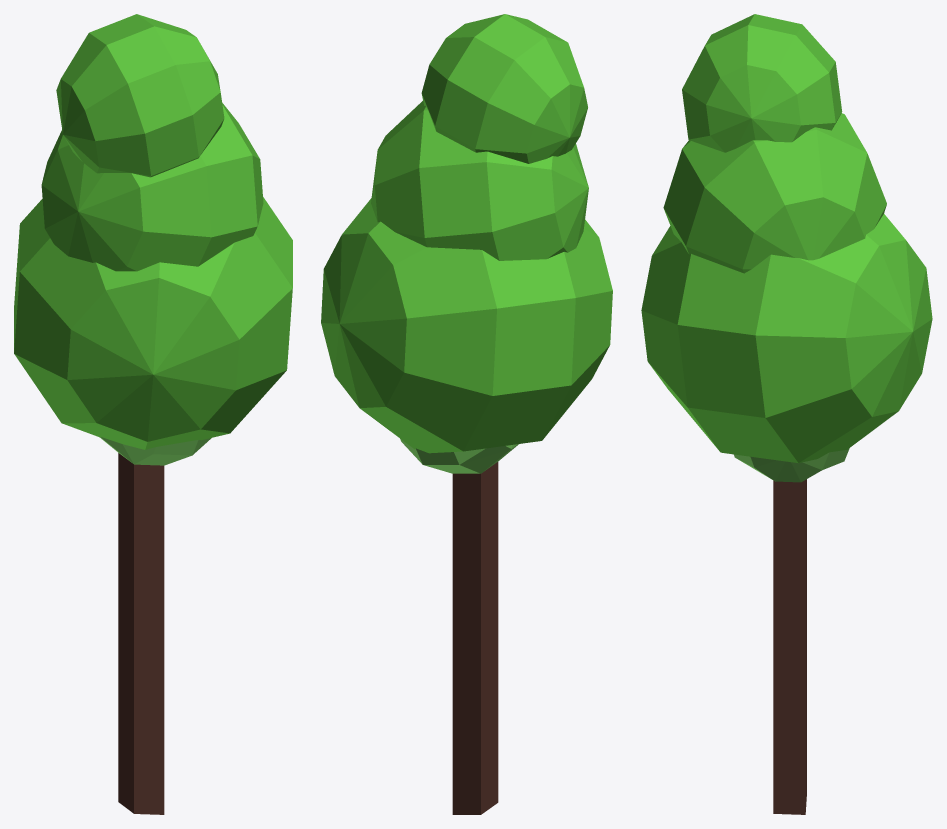
File: tree_2_world_ap_0_lev1.glb
3 renders of one model, left to right at view 1: azimuth 30°, elevation 25°; view 2: azimuth 150°, elevation 25°; view 3: azimuth 270°, elevation 25°, orthographic. The views are drawn at different scales.
Visible parts, largest first — view 1: tree_2_world_ap_0_lev1; view 2: tree_2_world_ap_0_lev1; view 3: tree_2_world_ap_0_lev1.
Boxes of the visible parts, x1,y1,x2,y2 form: tree_2_world_ap_0_lev1: (14,14,292,814); tree_2_world_ap_0_lev1: (321,14,612,814); tree_2_world_ap_0_lev1: (641,14,932,814).
Bounding box in the file's own units: 0.6901 × 2.15 × 0.7296.
Materials: 1 (1 with a texture image).
